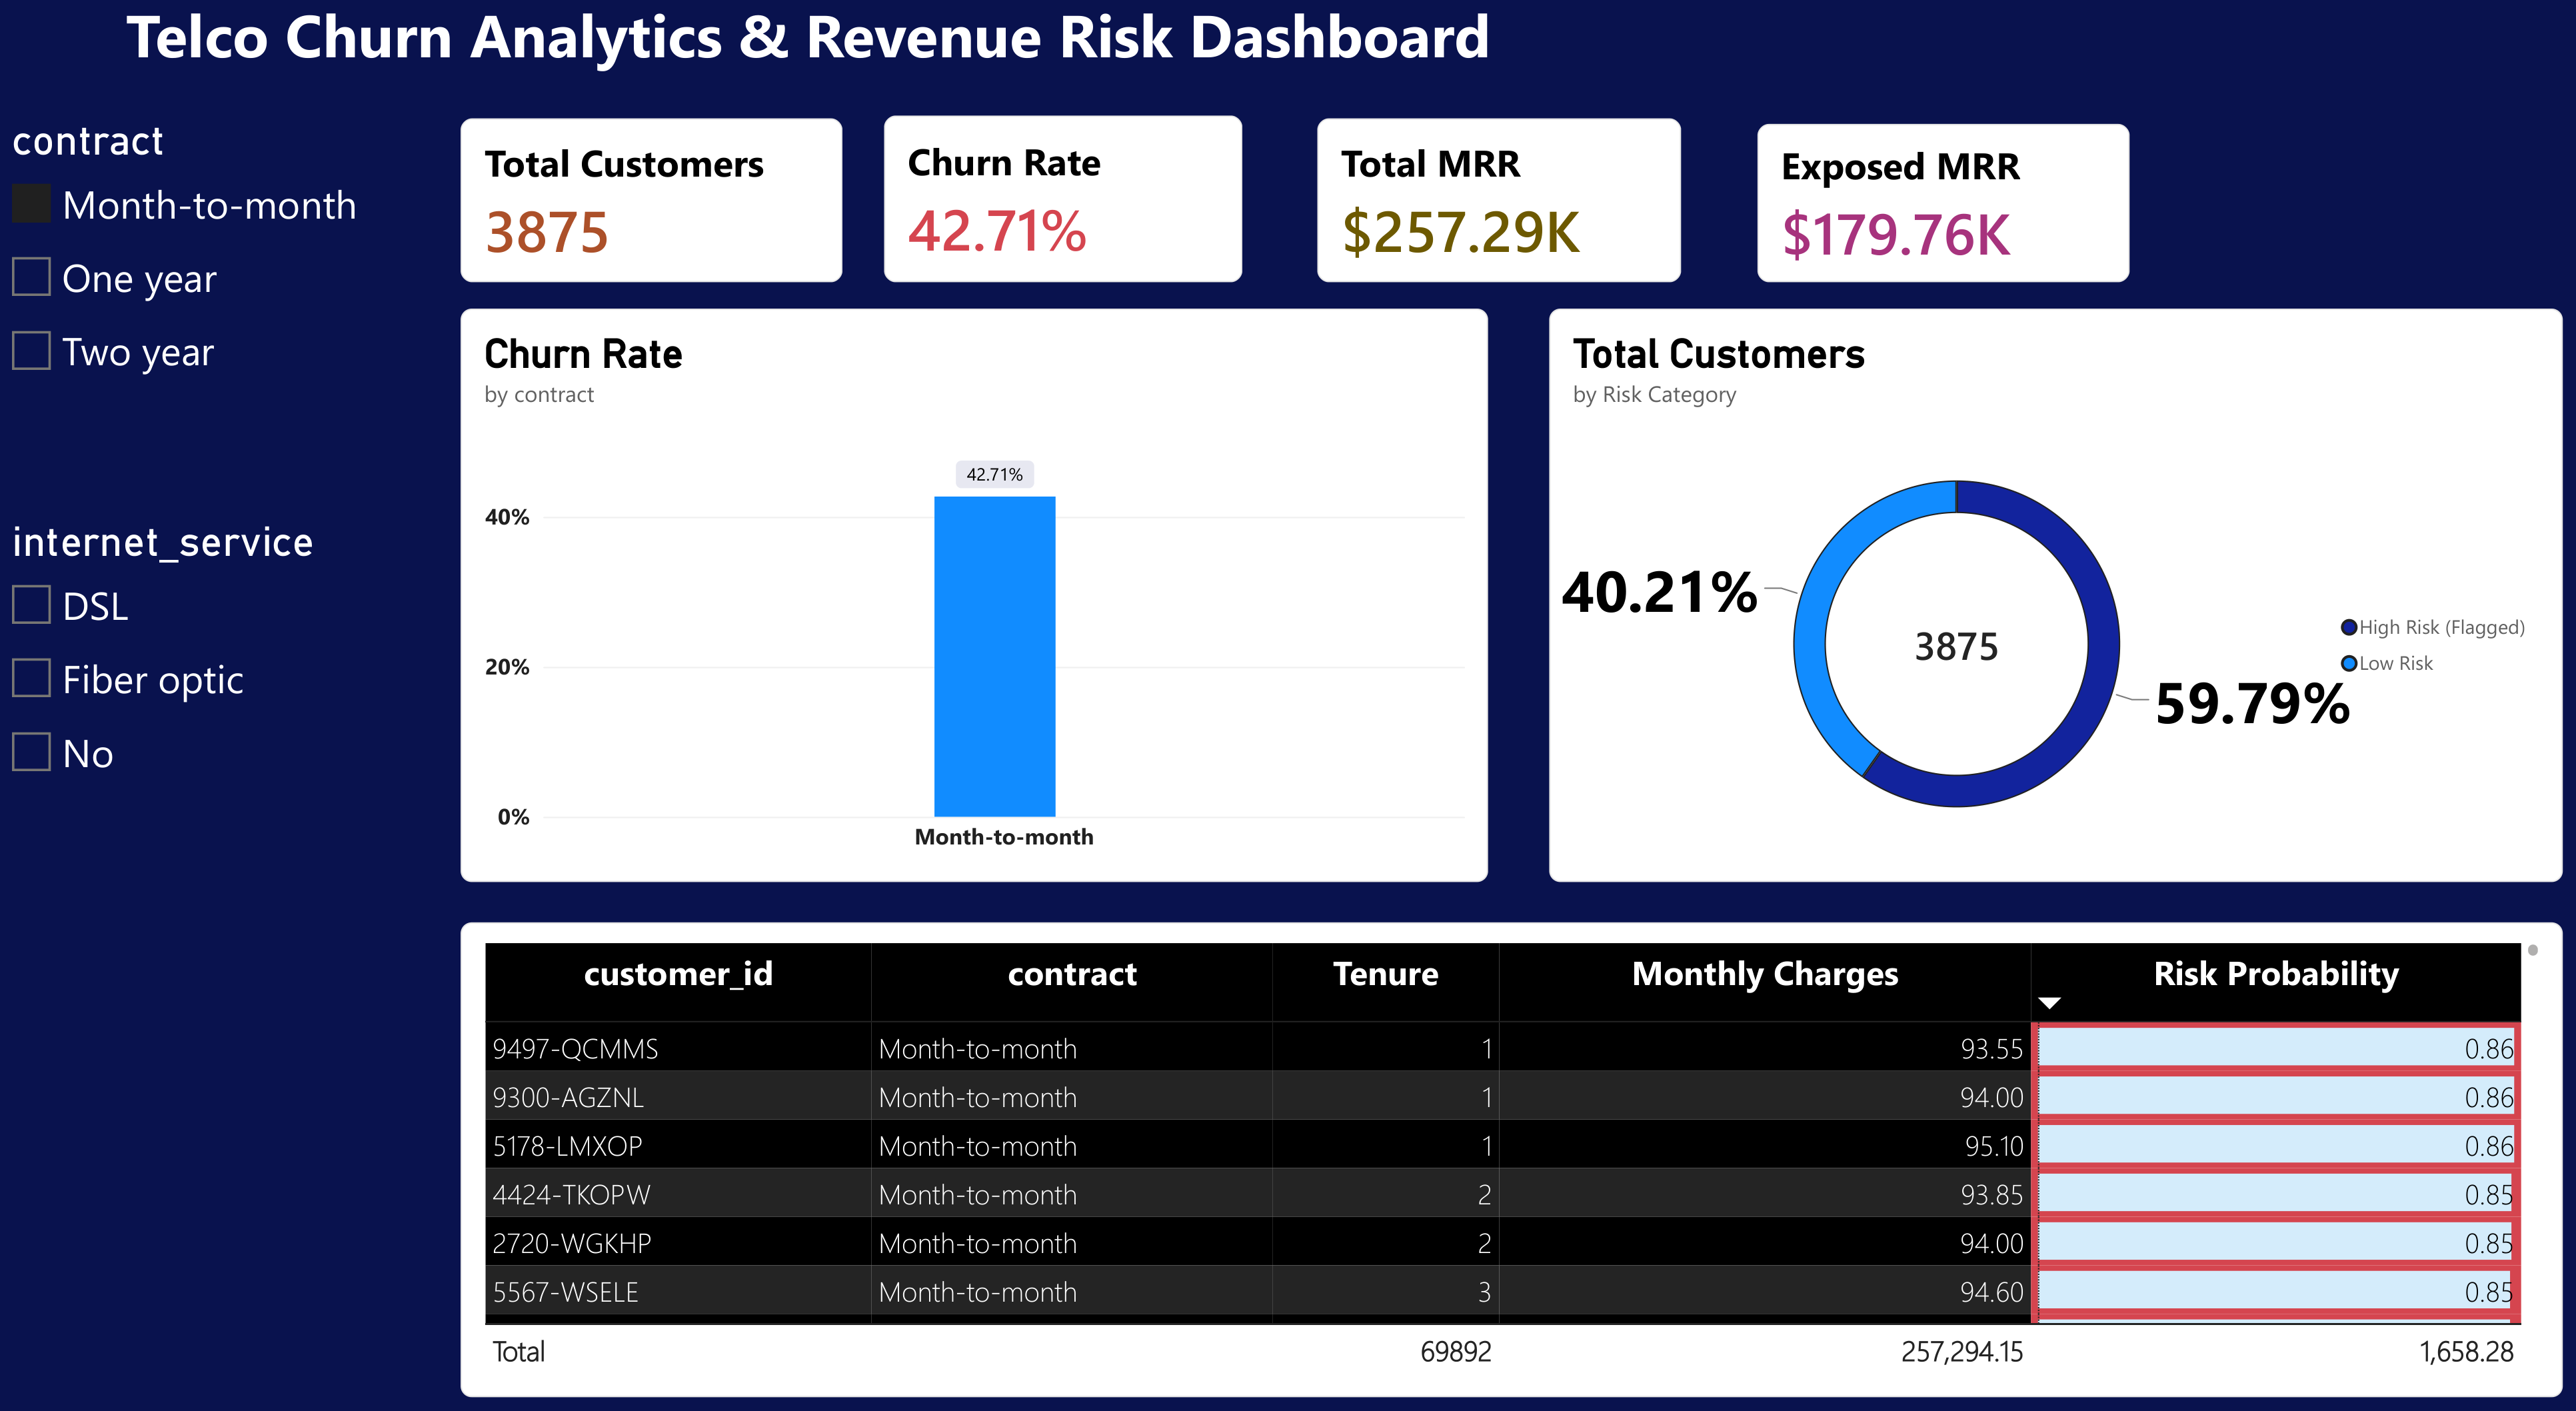

The dashboard page shown, as its layout file describes it:
{"tool":"powerbi","page":{"name":"Page 1","canvas":[1920,1080],"ordinal":0},"visuals":[{"type":"textbox","box":[10,0,280,280],"z":0},{"type":"textbox","box":[10,290,280,280],"z":1000},{"type":"textbox","box":[42,26,1164,48],"z":2000},{"type":"cardVisual","fields":{"Data":["_Key Measures.Total Customers"]},"box":[373.1,114.9,206.7,88],"z":3000},{"type":"cardVisual","fields":{"Data":["_Key Measures.Churn Rate"]},"box":[677.6,113.4,220,88],"z":3001},{"type":"cardVisual","fields":{"Data":["_Key Measures.Exposed MRR"]},"box":[1307.5,117.9,200,88],"z":3002},{"type":"cardVisual","fields":{"Data":["_Key Measures.Total MRR"]},"box":[991,114.9,214.7,88],"z":3003},{"type":"slicer","fields":{"Values":["cleaned_telco_churn.contract"]},"box":[41.8,246.3,292.5,240.3],"z":3004},{"type":"slicer","fields":{"Values":["cleaned_telco_churn.internet_service"]},"box":[46.3,540.3,244.8,331.3],"z":3005},{"type":"clusteredColumnChart","fields":{"Category":["cleaned_telco_churn.contract"],"Y":["_Key Measures.Churn Rate"]},"box":[373.1,252.2,650.7,365.3],"z":3006},{"type":"donutChart","fields":{"Category":["customer_churn_scored.Risk Category"],"Y":["_Key Measures.Total Customers"]},"box":[1076.1,252.2,462,356],"z":3007},{"type":"tableEx","fields":{"Values":["cleaned_telco_churn.customer_id","cleaned_telco_churn.contract","Sum(cleaned_telco_churn.tenure)","Sum(cleaned_telco_churn.monthly_charges)","Sum(customer_churn_scored.churn_probability)"]},"box":[373.1,643.3,1165.7,343.3],"z":3008}]}

Visuals, with their boxes in screenshot pixels (x1, y1, x2, y2), scaled from the page's 1920x1080 canvas onto the 2576x1411 screenshot:
textbox: box=[13, 0, 389, 366]
textbox: box=[13, 379, 389, 744]
textbox: box=[57, 34, 1618, 97]
cardVisual - _Key Measures.Total Customers: box=[501, 150, 778, 265]
cardVisual - _Key Measures.Churn Rate: box=[909, 148, 1204, 263]
cardVisual - _Key Measures.Exposed MRR: box=[1754, 154, 2023, 269]
cardVisual - _Key Measures.Total MRR: box=[1330, 150, 1618, 265]
slicer - cleaned_telco_churn.contract: box=[56, 322, 449, 636]
slicer - cleaned_telco_churn.internet_service: box=[62, 706, 391, 1138]
clusteredColumnChart - cleaned_telco_churn.contract x _Key Measures.Churn Rate: box=[501, 329, 1374, 806]
donutChart - customer_churn_scored.Risk Category x _Key Measures.Total Customers: box=[1444, 329, 2063, 794]
tableEx - cleaned_telco_churn.customer_id x cleaned_telco_churn.contract: box=[501, 840, 2065, 1289]
